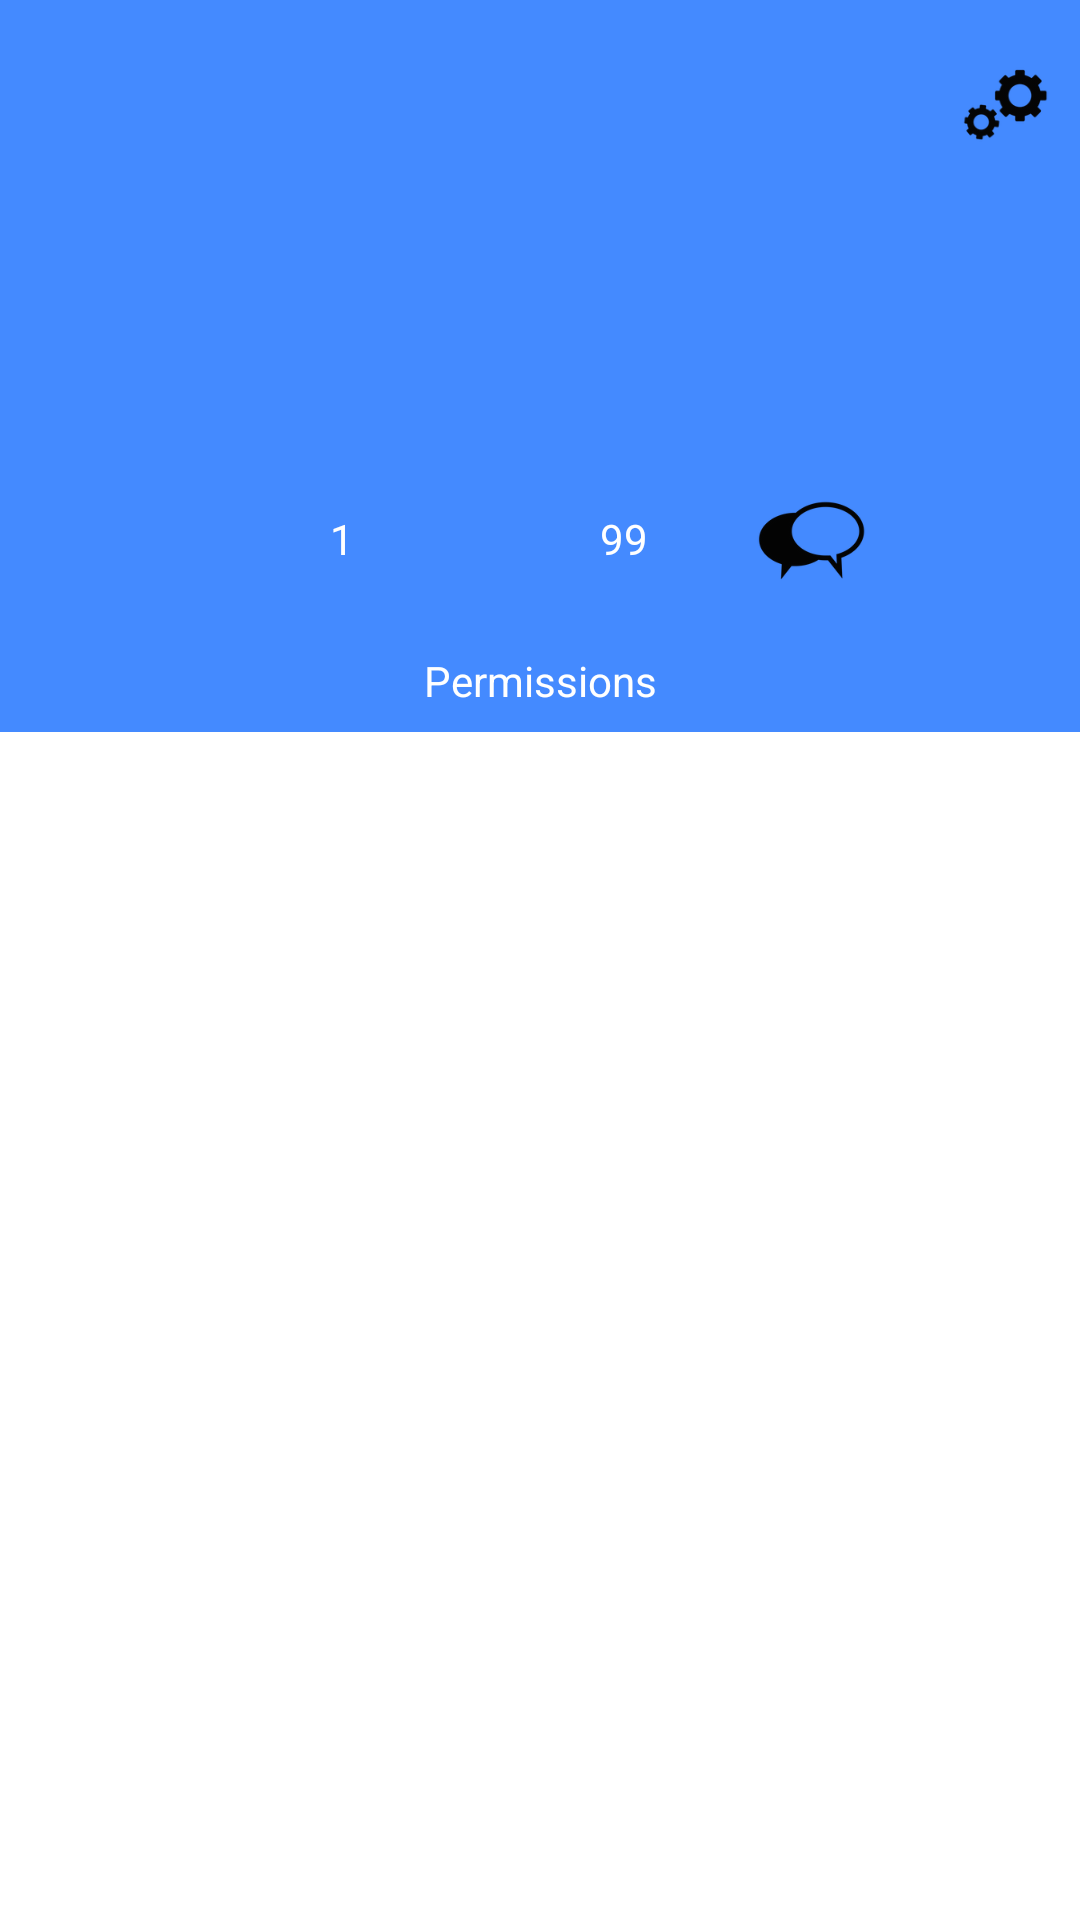

Named icons in this screenshot (1080x1920) and their centers, (x,y):
comment: (812,540)
setting: (1005,104)
